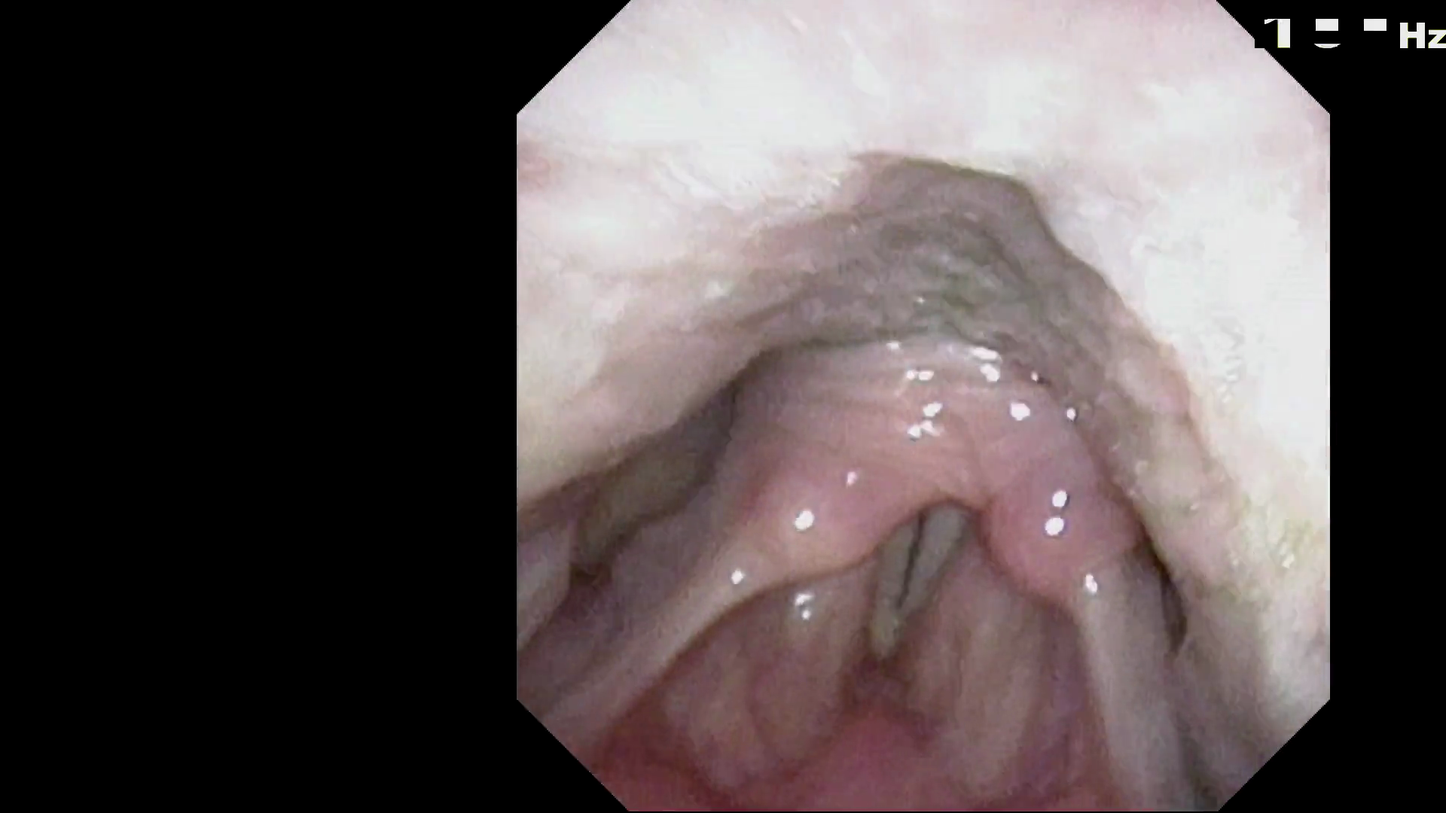epiglottis: (598, 347, 1014, 544)
trachea: (857, 456, 982, 651)
